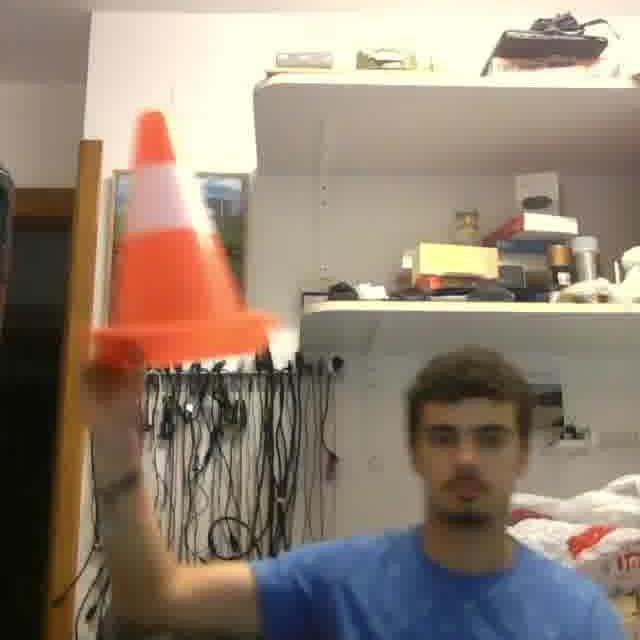NO-Hardhat: (405, 350, 531, 416)
NO-Mask: (423, 476, 506, 522)
NO-Safety Vest: (340, 538, 572, 640)
Person: (80, 344, 634, 640)
Safety Cone: (85, 105, 275, 369)
